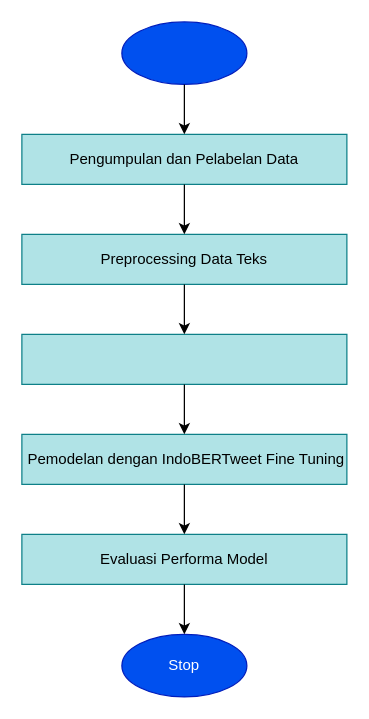
Some shapes in this 369 by 719 pixel diagram are drawn without their labels. Each missing label, with the centre of its shape:
"Analisis Eksplorasi Data (EDA)" goes at point (184, 358).
"Mulai" goes at point (184, 52).
